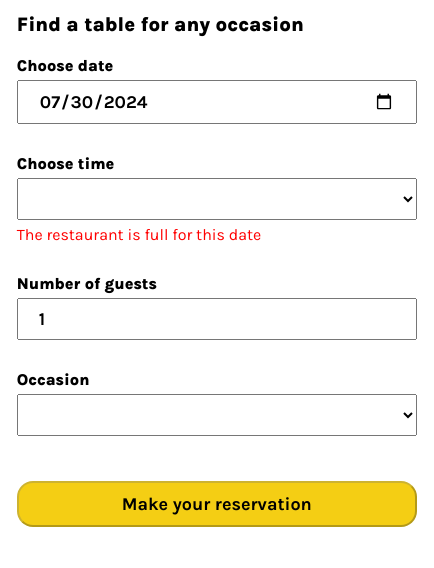
Scenario: Validation incorrect for BookingForm - no guests selected
In the number field with id "guests": (217, 319) 17,298 -> 417,340, type "a"
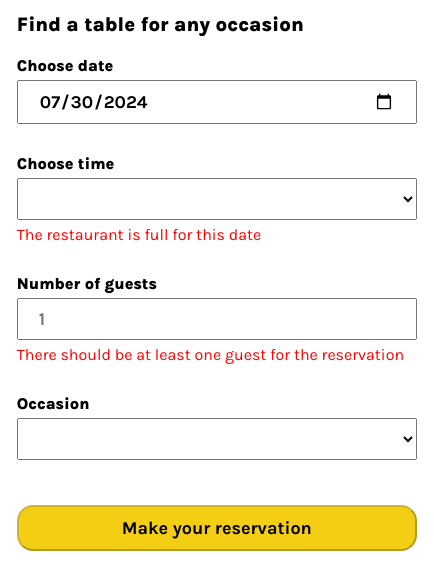
Expected: the button with id "submit-button" is disabled, 17,505 -> 417,551
Expected: the text "There should be at least one guest for the reservation" is shown, 17,345 -> 417,364
